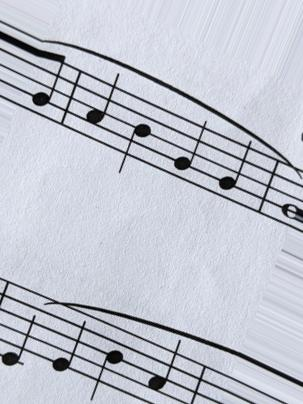note: (171, 112, 210, 200), (119, 85, 154, 181), (88, 313, 125, 403), (1, 278, 37, 369), (82, 67, 120, 153), (49, 296, 87, 380), (217, 129, 254, 214), (144, 336, 176, 402)
